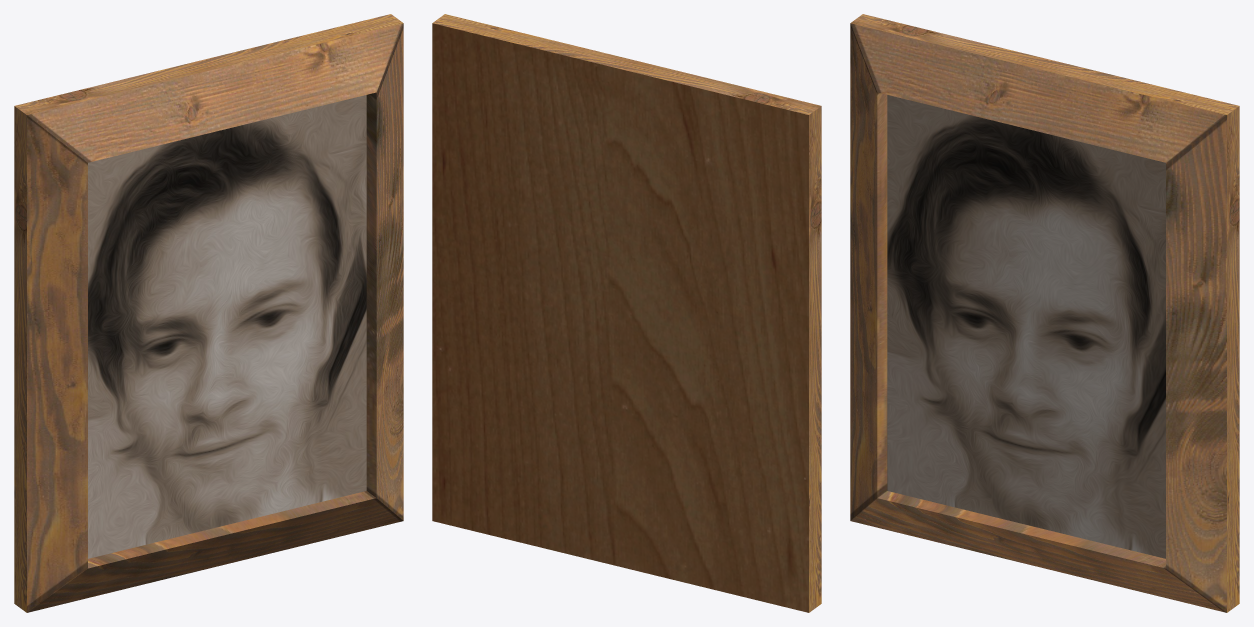
File: Painting1.FBX
The picture shows the model from 3 angles, left to right: view 1: azimuth 30°, elevation 25°; view 2: azimuth 150°, elevation 25°; view 3: azimuth 330°, elevation 25°; orthographic projection.
Visible parts, largest first — view 1: Painting; view 2: Painting; view 3: Painting.
Part boxes in pixels (x1=…): Painting: x1=14, y1=14, x2=403, y2=612; Painting: x1=432, y1=14, x2=821, y2=612; Painting: x1=850, y1=14, x2=1239, y2=612.
Bounding box in the file's own units: 35.81 × 4.86 × 45.22.
Materials: 1 (1 with a texture image).
